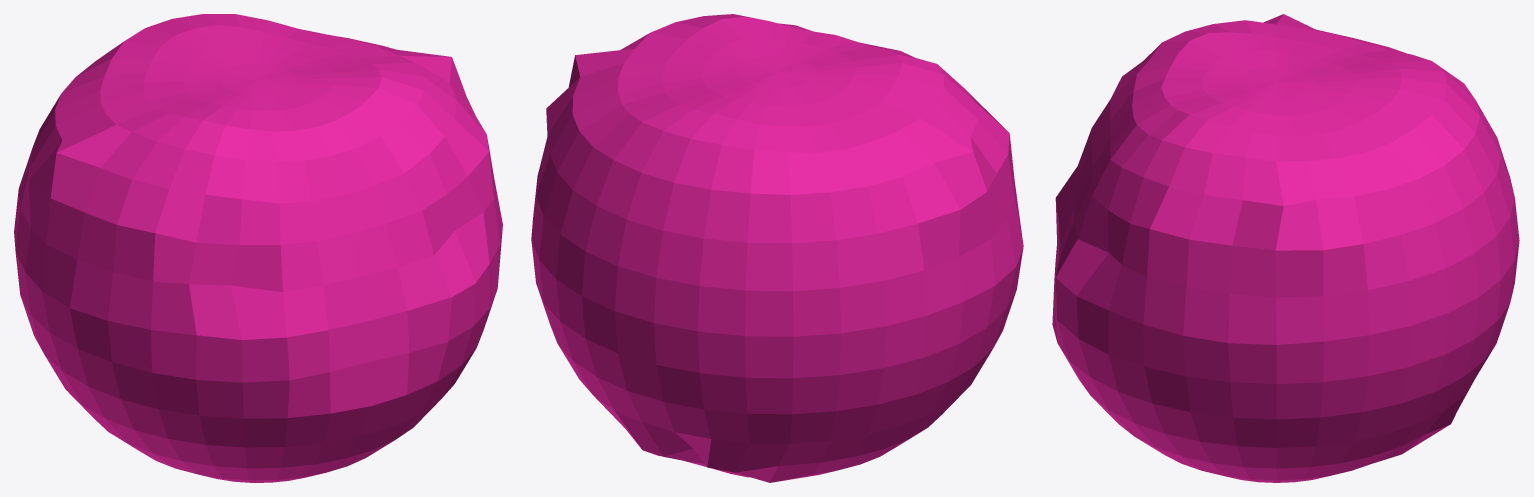
File: OddBall.glb
The picture shows the model from 3 angles, left to right: view 1: azimuth 30°, elevation 25°; view 2: azimuth 150°, elevation 25°; view 3: azimuth 270°, elevation 25°; orthographic projection.
Parts seen in each view (by area): view 1: Sphere; view 2: Sphere; view 3: Sphere.
Part boxes in pixels (bbox=[...]): Sphere: bbox=[14, 14, 502, 482]; Sphere: bbox=[531, 14, 1023, 482]; Sphere: bbox=[1052, 14, 1519, 482].
Bounding box in the file's own units: 2.04 × 1.74 × 1.92.
